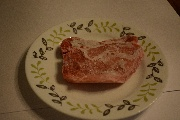beef: (59, 35, 144, 83)
